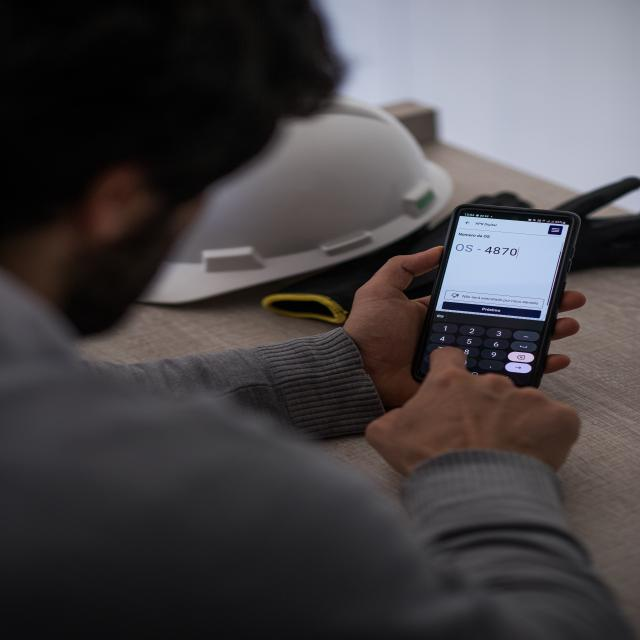capacete: (130, 89, 460, 312)
